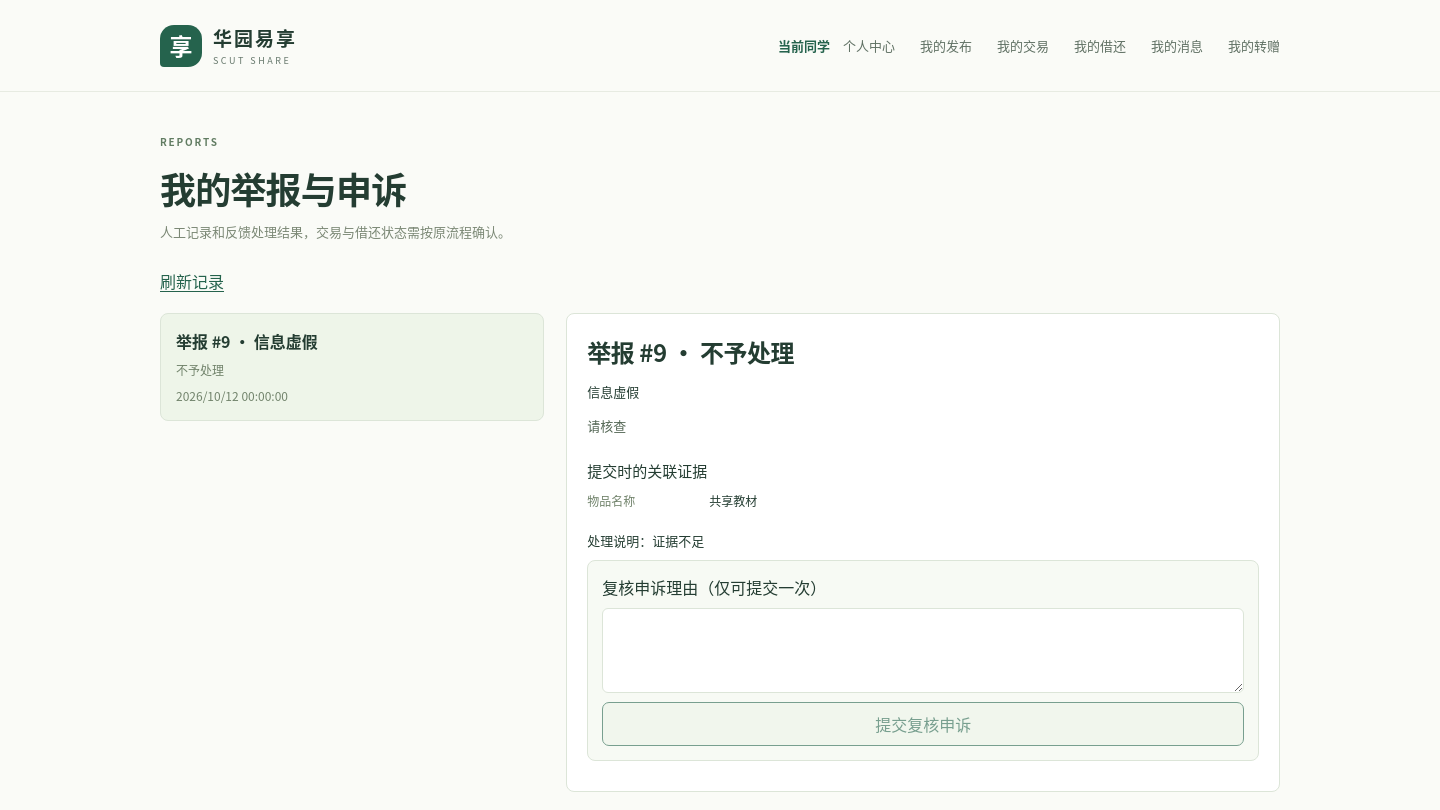
举报人查看结果并提交一次复核申诉
Check: the text "处理说明：证据不足" is shown, box [587,531,704,550]
Type "补充交接情况" into the text box labelled "复核申诉理由（仅可提交一次）". click: coordinates (923, 651)
box: [602,608,1244,693]
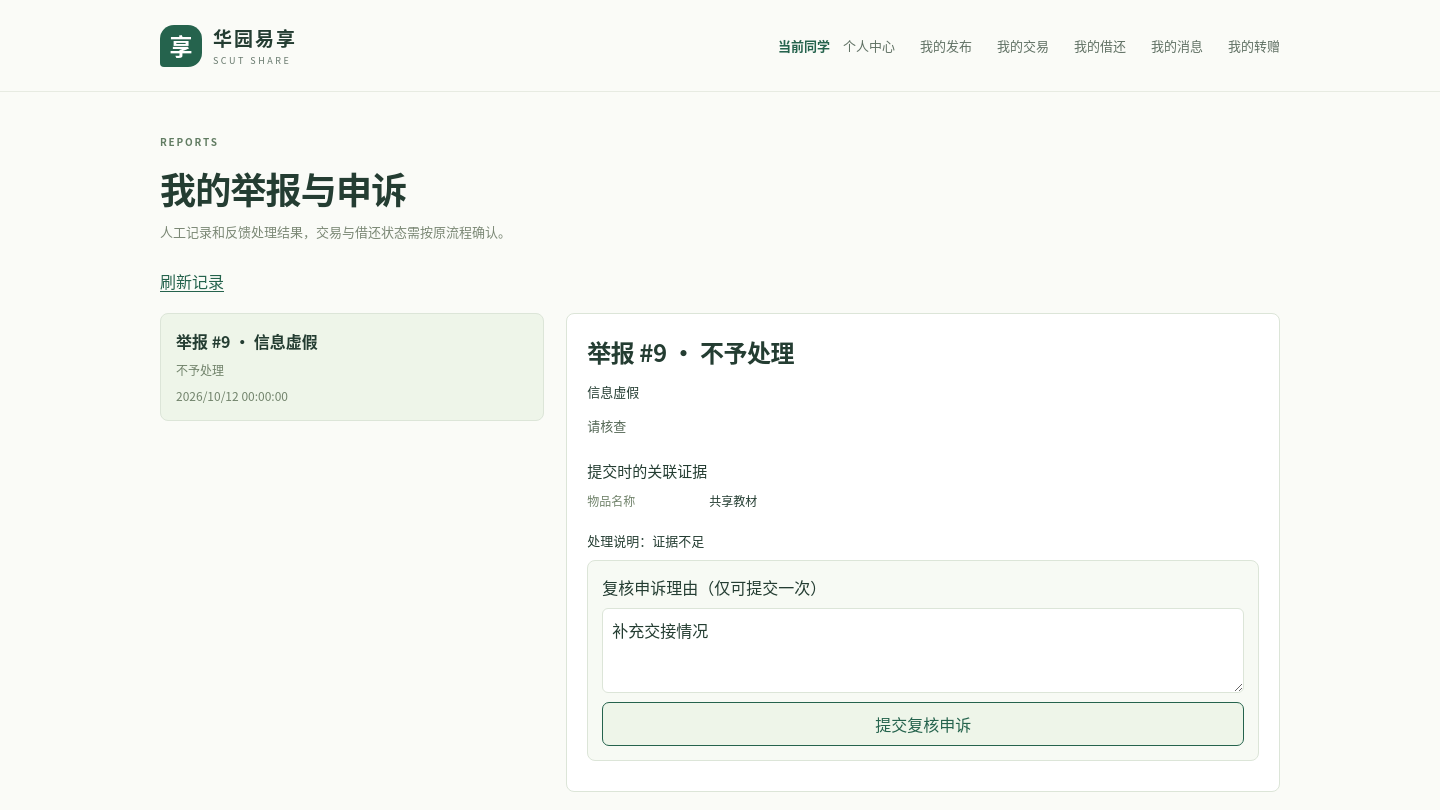
Click the button "提交复核申诉". click: coordinates (923, 724)
box: [602,702,1244,746]
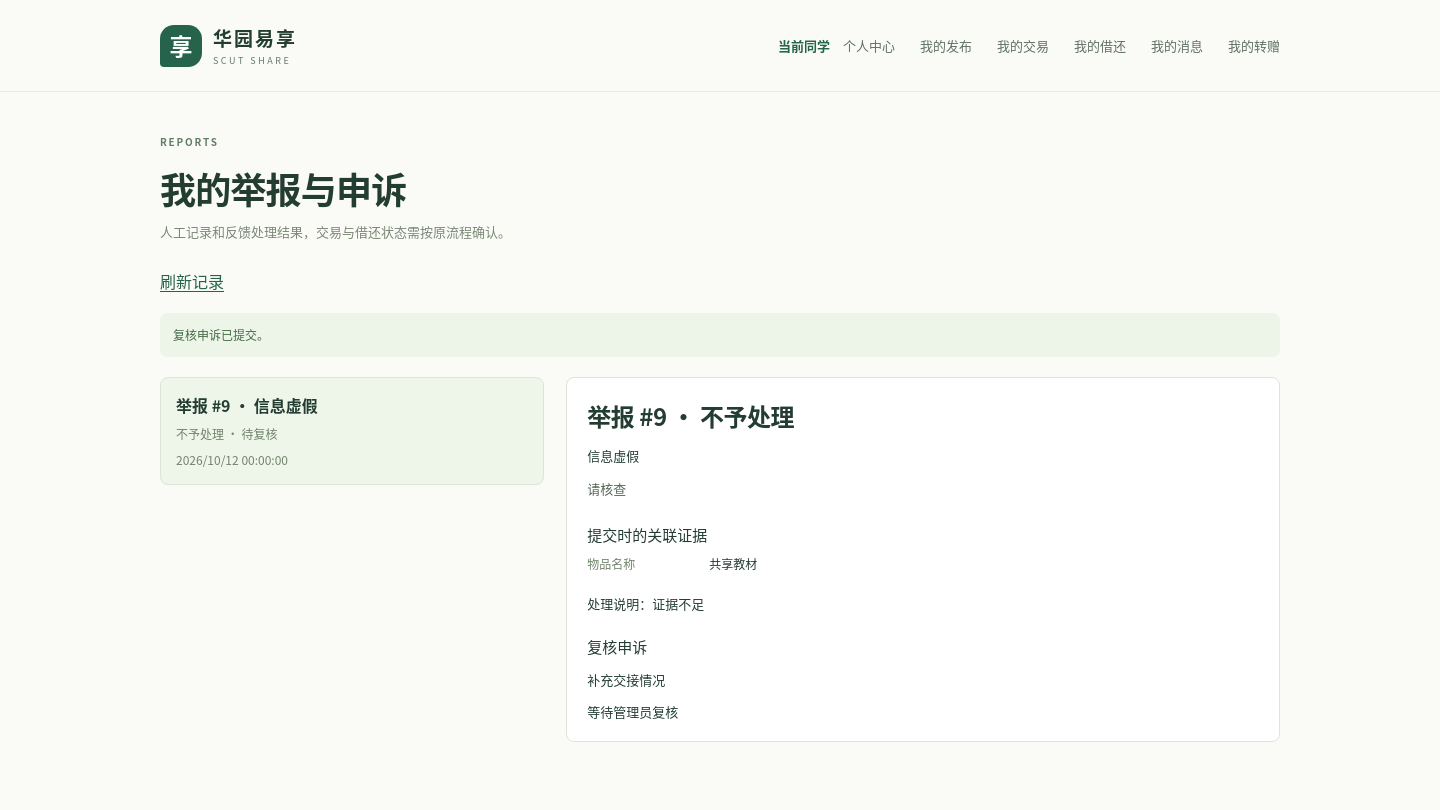
Check: the text "等待管理员复核" is shown, box [587,702,678,721]
Check: the button "提交复核申诉" is gone
